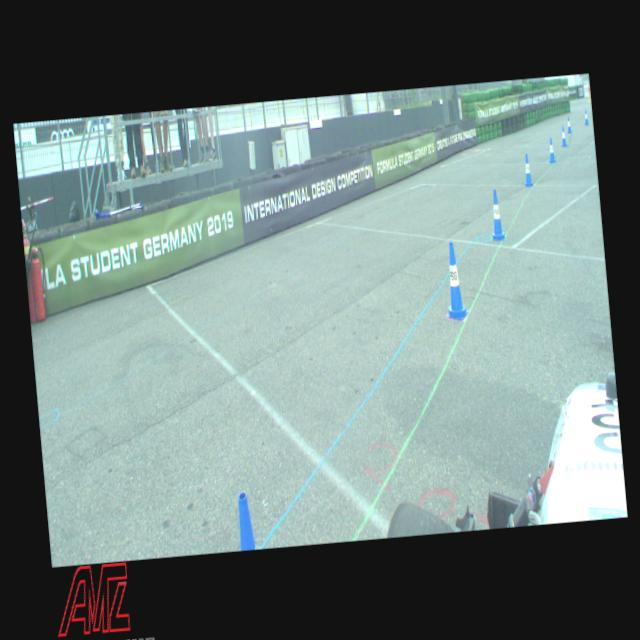blue_cone: (440, 240, 469, 320), (234, 489, 255, 551), (488, 189, 505, 239), (522, 154, 533, 186), (546, 137, 556, 162), (560, 126, 567, 146), (566, 116, 572, 133), (584, 109, 588, 125)
